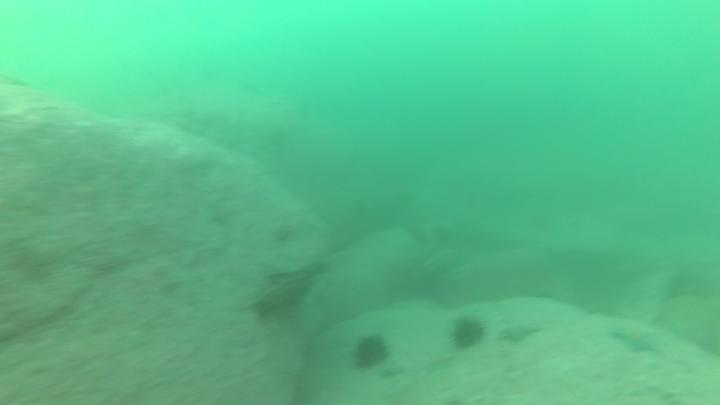echinus: (351, 332, 393, 373), (447, 314, 488, 353)
starfish: (606, 320, 664, 356), (497, 323, 542, 347)
